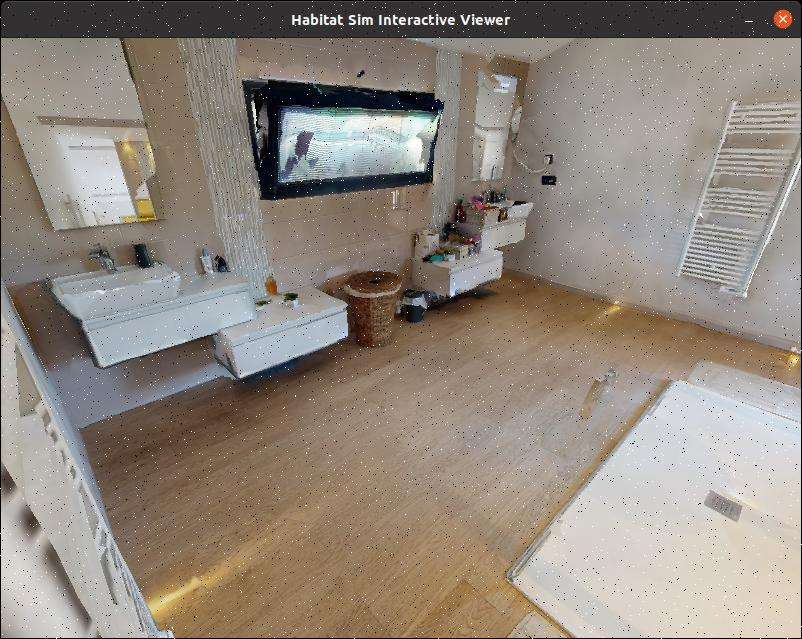sink: (50, 233, 187, 326)
